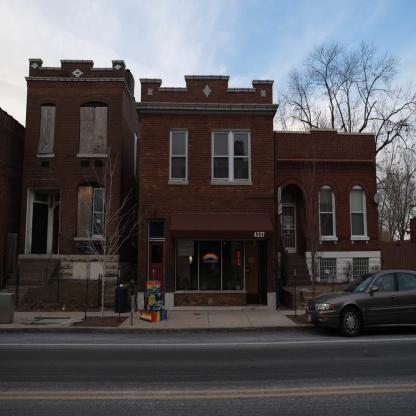Car: (307, 267, 416, 338)
